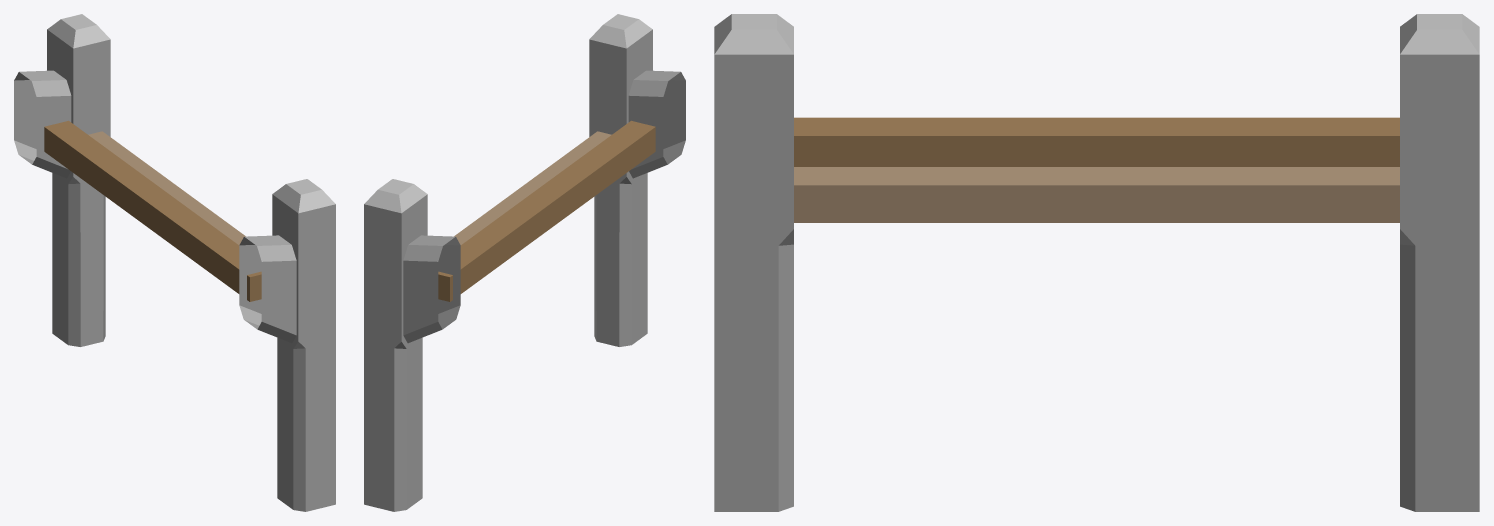
Rendered from bridgeHead.fbx.
3 views of the same model, side by side, from view 1: azimuth 30°, elevation 25°; view 2: azimuth 150°, elevation 25°; view 3: azimuth 270°, elevation 25° (orthographic). The views are drawn at different scales.
Visible parts, largest first — view 1: Bridge Head; view 2: Bridge Head; view 3: Bridge Head.
Part boxes in pixels (box(x1,y1,x2,y2)): Bridge Head: box(14, 14, 335, 511); Bridge Head: box(364, 14, 685, 511); Bridge Head: box(714, 14, 1479, 511).
Bounding box in the file's own units: 37.07 × 153 × 223.
